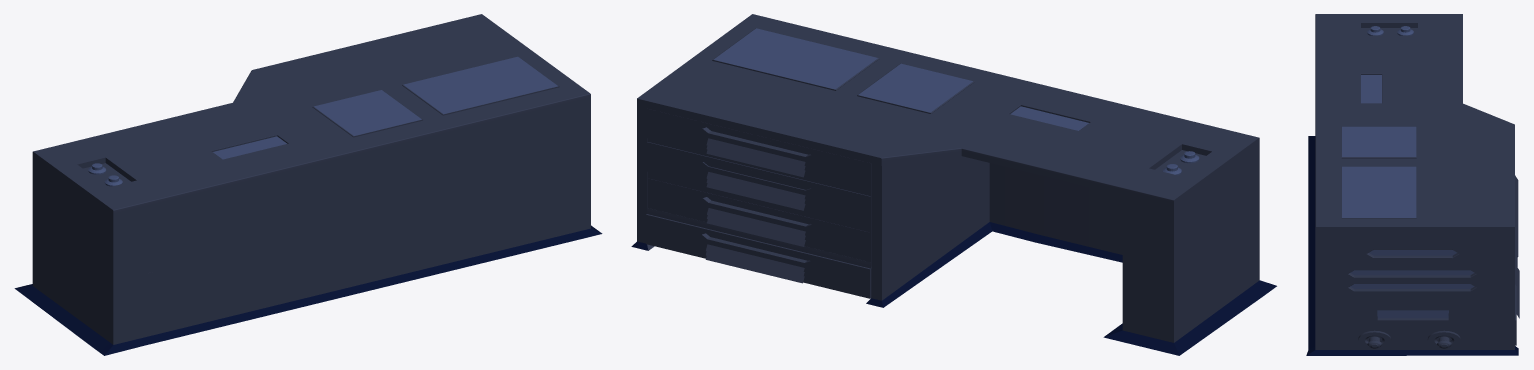
File: desk (1).fbx
3 renders of one model, left to right at view 1: azimuth 30°, elevation 25°; view 2: azimuth 150°, elevation 25°; view 3: azimuth 270°, elevation 25°, orthographic. The views are drawn at different scales.
Parts seen in each view (by area): view 1: desk_3:desk_base, desk_3:board1, desk_3:board2; view 2: desk_3:desk_base, desk_3:drawer6, desk_3:drawer3, desk_3:drawer5, desk_3:drawer4, desk_3:board1, desk_3:board2; view 3: desk_3:desk_base, desk_3:board1, desk_3:board2, desk_3:button1, desk_3:button2, desk_3:drawer6, desk_3:drawer3.
Boxes of the visible parts, bbox=[...] form: desk_3:desk_base: bbox=[14, 14, 602, 355]; desk_3:board1: bbox=[402, 56, 559, 115]; desk_3:board2: bbox=[312, 89, 422, 137]; desk_3:desk_base: bbox=[631, 14, 1276, 355]; desk_3:drawer6: bbox=[646, 214, 871, 298]; desk_3:drawer3: bbox=[646, 108, 871, 192]; desk_3:drawer5: bbox=[647, 178, 870, 262]; desk_3:drawer4: bbox=[646, 142, 871, 226]; desk_3:board1: bbox=[712, 28, 879, 90]; desk_3:board2: bbox=[857, 63, 974, 113]; desk_3:desk_base: bbox=[1306, 14, 1518, 355]; desk_3:board1: bbox=[1341, 166, 1416, 218]; desk_3:board2: bbox=[1341, 126, 1416, 158]; desk_3:button1: bbox=[1358, 330, 1391, 348]; desk_3:button2: bbox=[1427, 330, 1460, 348]; desk_3:drawer6: bbox=[1515, 268, 1519, 345]; desk_3:drawer3: bbox=[1515, 175, 1518, 227].
Size of the model in its own units: 10.82 by 2.87 by 4.32.
